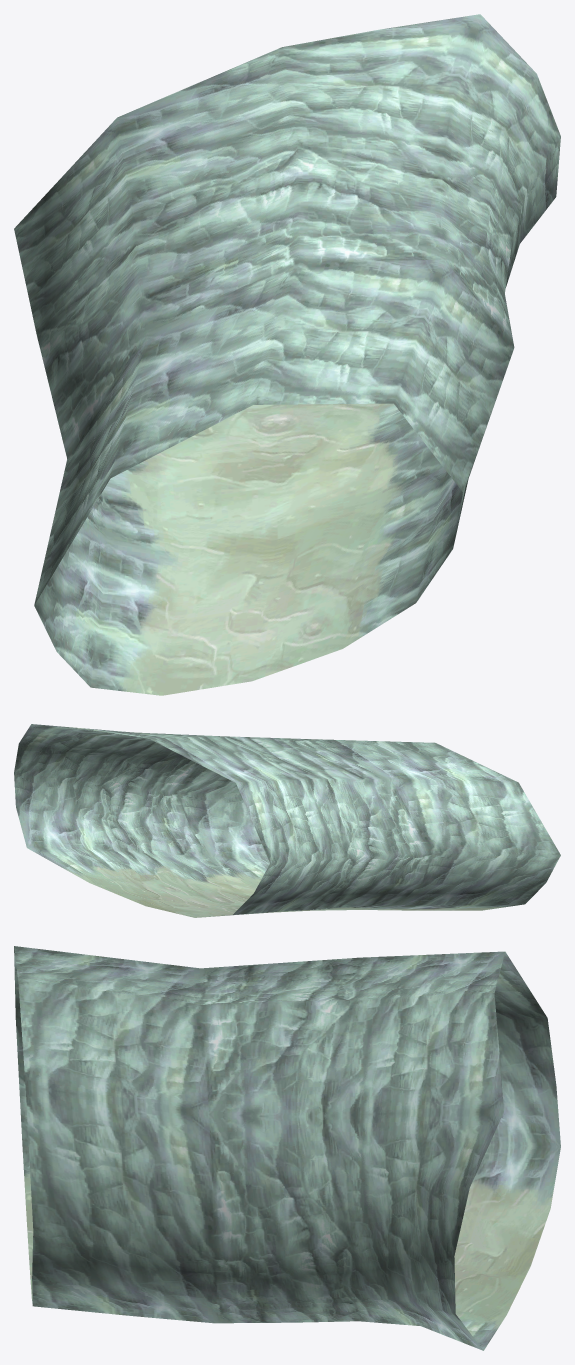
File: TROLLHOLE02_PS-MAINCAVE13.fbx
3 views of the same model, one above another, from view 1: azimuth 30°, elevation 25°; view 2: azimuth 150°, elevation 25°; view 3: azimuth 270°, elevation 25° (orthographic). The views are drawn at different scales.
Visible parts, largest first — view 1: TROLLHOLE02_PS-MAINCAVE13; view 2: TROLLHOLE02_PS-MAINCAVE13; view 3: TROLLHOLE02_PS-MAINCAVE13.
Boxes of the visible parts, box(x1,y1,x2,y2) form: TROLLHOLE02_PS-MAINCAVE13: box(14, 14, 560, 695); TROLLHOLE02_PS-MAINCAVE13: box(14, 724, 560, 917); TROLLHOLE02_PS-MAINCAVE13: box(14, 946, 560, 1350).
Size of the model in its own units: 130236 by 66388 by 82992.
Materials: 2 (2 with a texture image).
